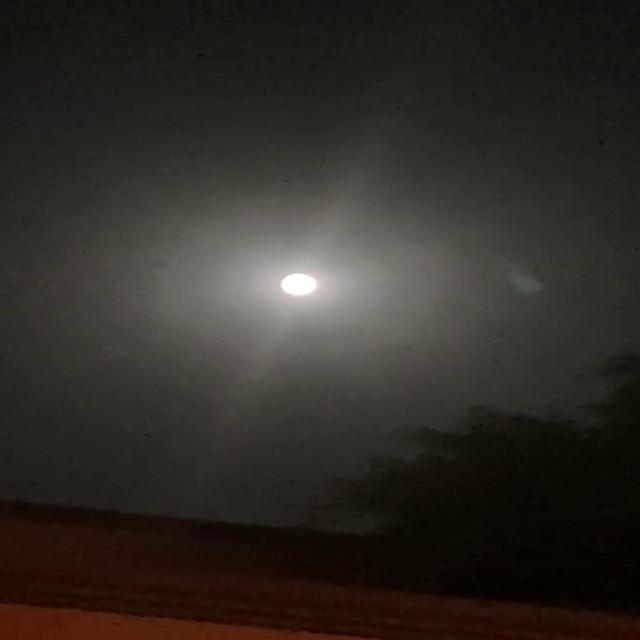moon: (277, 269, 335, 301)
